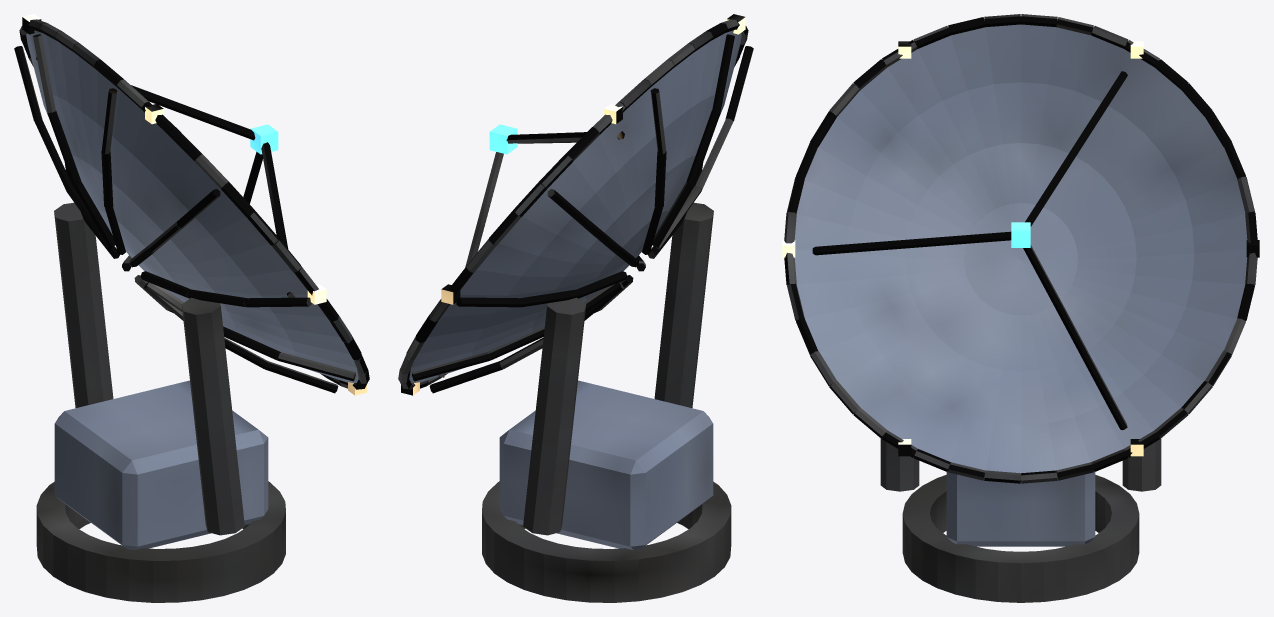
The model's file is mining_dish.glb.
3 views of the same model, side by side, from view 1: azimuth 30°, elevation 25°; view 2: azimuth 150°, elevation 25°; view 3: azimuth 270°, elevation 25° (orthographic). The views are drawn at different scales.
Parts seen in each view (by area): view 1: dish_yaw, dish_pitch; view 2: dish_yaw, dish_pitch; view 3: dish_pitch, dish_yaw.
Boxes of the visible parts, bbox=[...] form: dish_yaw: bbox=[36, 202, 285, 602]; dish_pitch: bbox=[14, 14, 369, 395]; dish_yaw: bbox=[482, 202, 731, 602]; dish_pitch: bbox=[398, 14, 753, 395]; dish_pitch: bbox=[782, 14, 1259, 483]; dish_yaw: bbox=[880, 438, 1161, 602].
Bounding box in the file's own units: 329 × 628 × 545.
2 materials, 2 textured.
